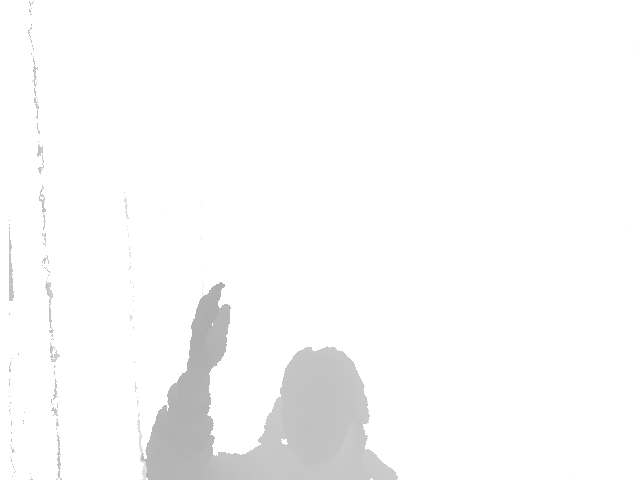hand: (186, 281, 230, 374)
head: (262, 346, 369, 448)
person: (147, 282, 397, 480)
